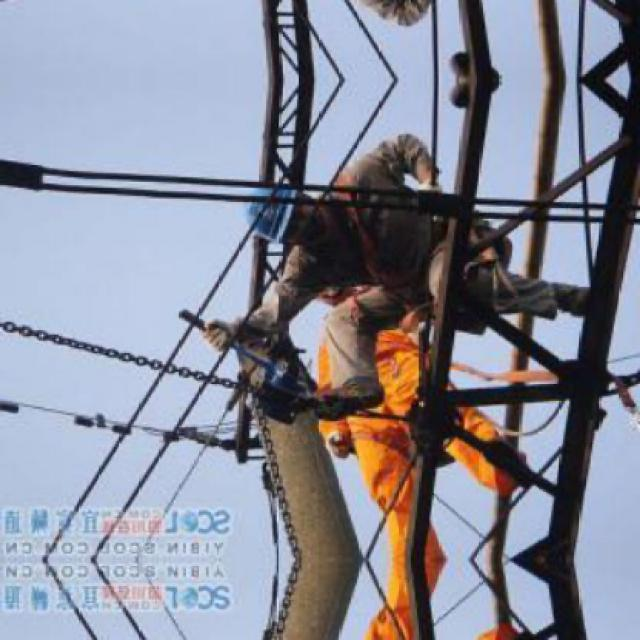helmet: (240, 172, 332, 246)
